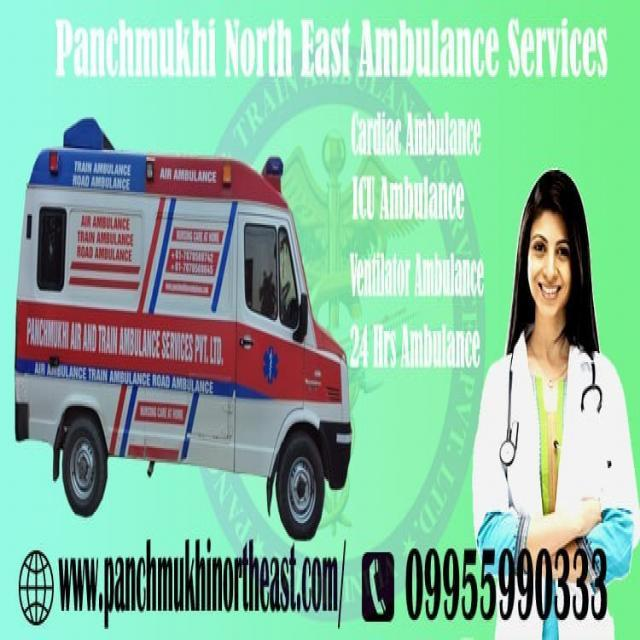emergency-vehicle: (3, 106, 354, 538)
